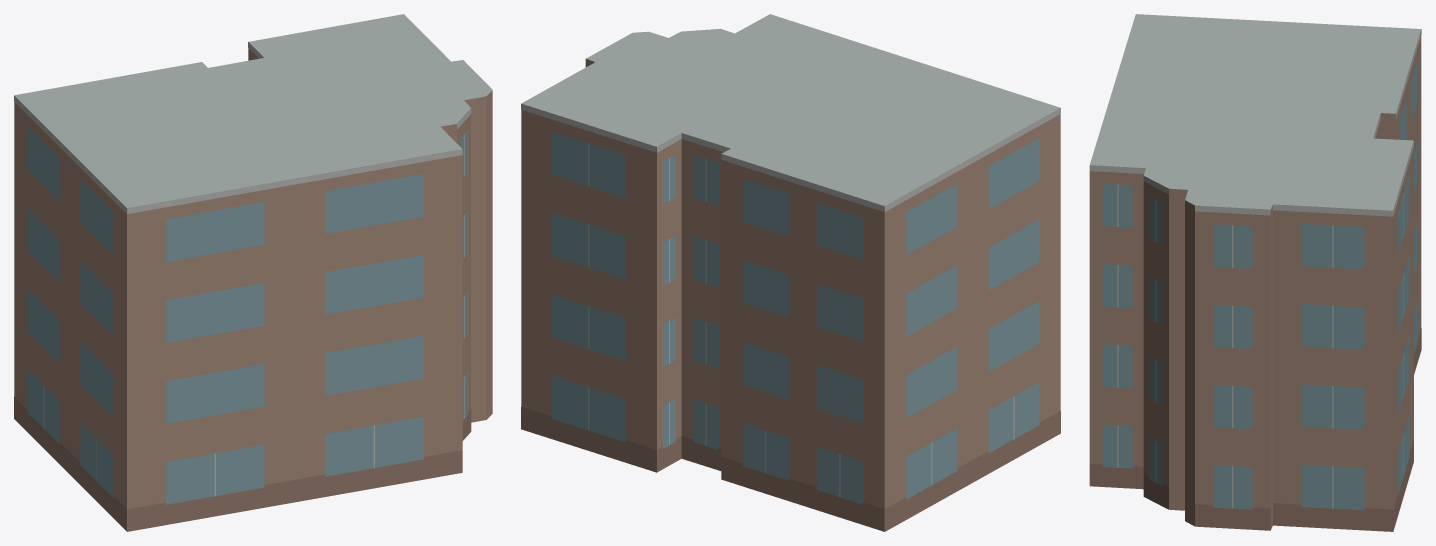
File: survey-upis-32897963.glb
3 views of the same model, side by side, from view 1: azimuth 30°, elevation 25°; view 2: azimuth 150°, elevation 25°; view 3: azimuth 270°, elevation 25° (orthographic).
Visible parts, largest first — view 1: survey-upis-32897963.tmp; view 2: survey-upis-32897963.tmp; view 3: survey-upis-32897963.tmp.
Boxes of the visible parts, x1,y1,x2,y2 form: survey-upis-32897963.tmp: (14,14,492,531); survey-upis-32897963.tmp: (521,14,1060,531); survey-upis-32897963.tmp: (1089,14,1421,531).
Size of the model in its own units: 17.43 by 13.25 by 12.42.
